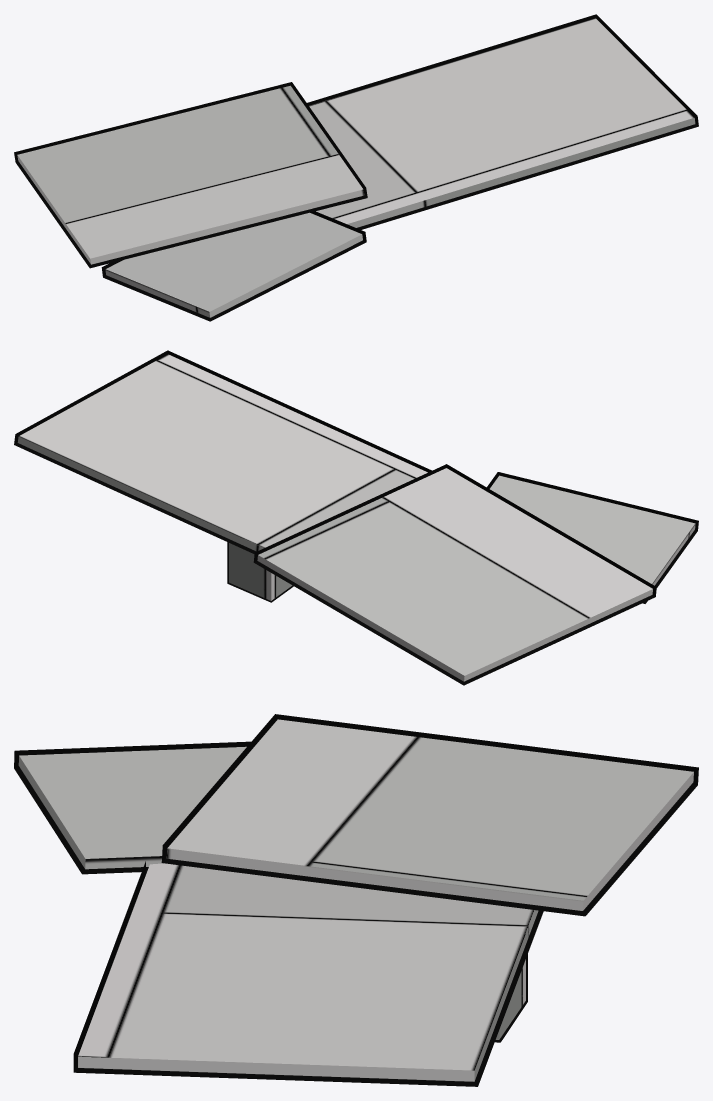
The model's file is JumpPlatform.glb.
3 views of the same model, one above another, from view 1: azimuth 30°, elevation 25°; view 2: azimuth 150°, elevation 25°; view 3: azimuth 270°, elevation 25° (orthographic). The views are drawn at different scales.
Parts seen in each view (by area): view 1: Cube.027, Cube.015; view 2: Cube.027, Cube.015; view 3: Cube.027, Cube.015.
Part boxes in pixels (x1,y1,x2,y2): Cube.027: [17, 18, 695, 317]; Cube.015: [14, 14, 698, 321]; Cube.027: [17, 354, 695, 681]; Cube.015: [14, 350, 698, 685]; Cube.027: [18, 719, 693, 1081]; Cube.015: [14, 714, 698, 1086].
Bounding box in the file's own units: 2.73 × 0.41 × 1.77.
2 materials, 1 textured.
